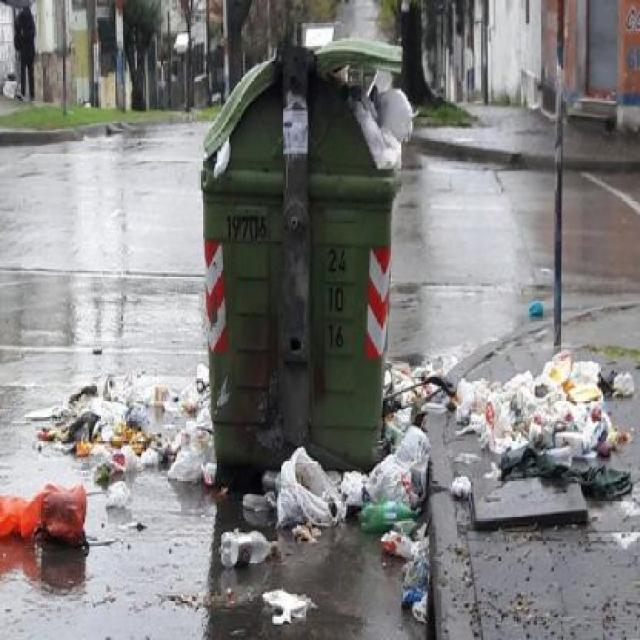garbage: (456, 345, 640, 550), (45, 365, 216, 562), (256, 452, 425, 546), (382, 360, 434, 634), (5, 475, 126, 568), (200, 500, 319, 592), (343, 72, 414, 160), (522, 283, 550, 333)
